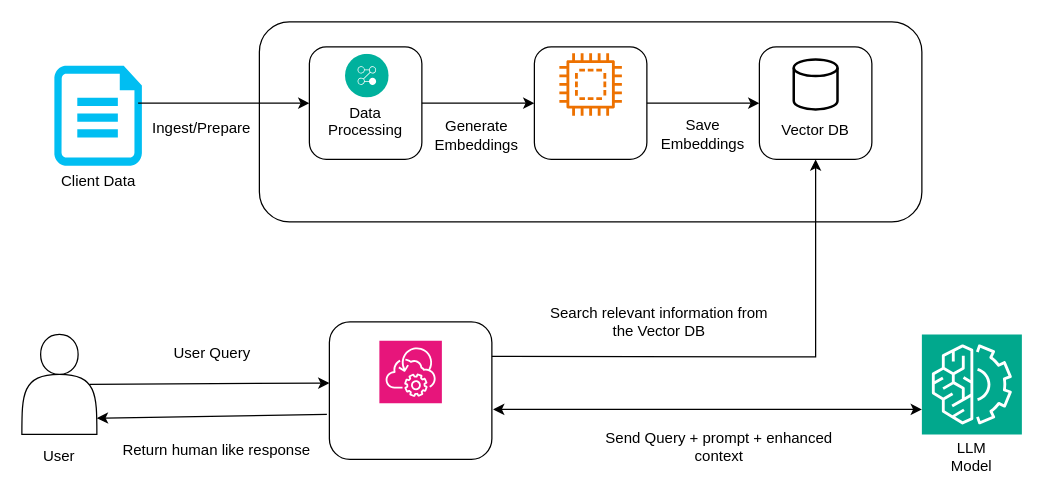
Image size: 1044x498. Some labels were removed from this diagram. Each missing label, with the box of its shape:
Backend / AI Service: (328, 321, 492, 459)
Embeddings: (533, 46, 647, 159)
